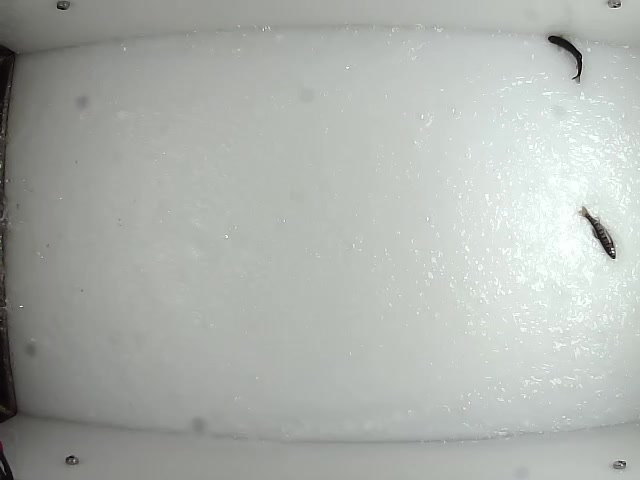fish: (576, 205, 618, 260), (545, 35, 585, 84)
